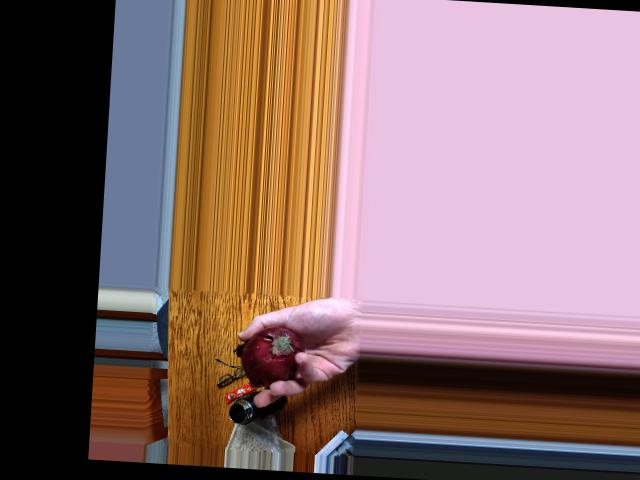onion: (245, 325, 304, 383)
